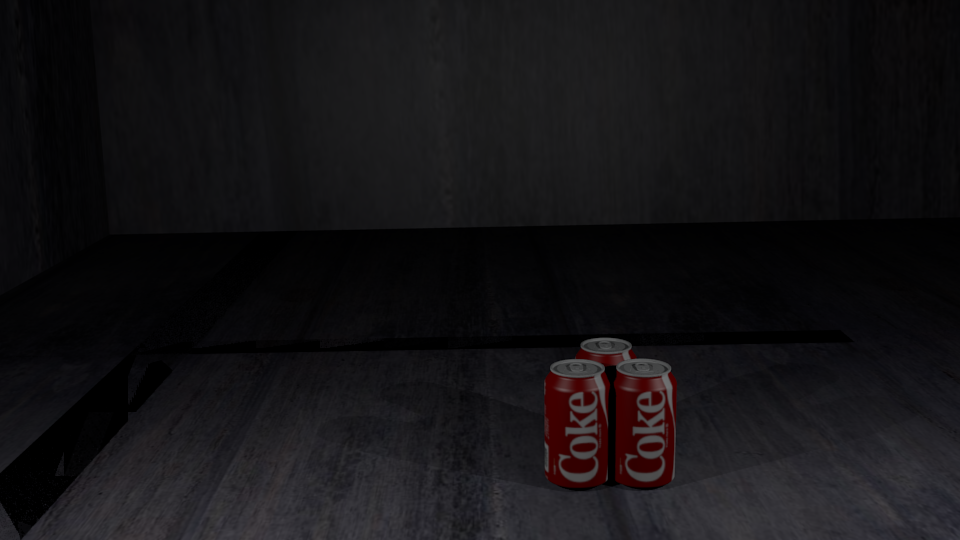cola_can: (610, 359, 676, 483), (545, 359, 609, 484), (576, 338, 636, 456)
